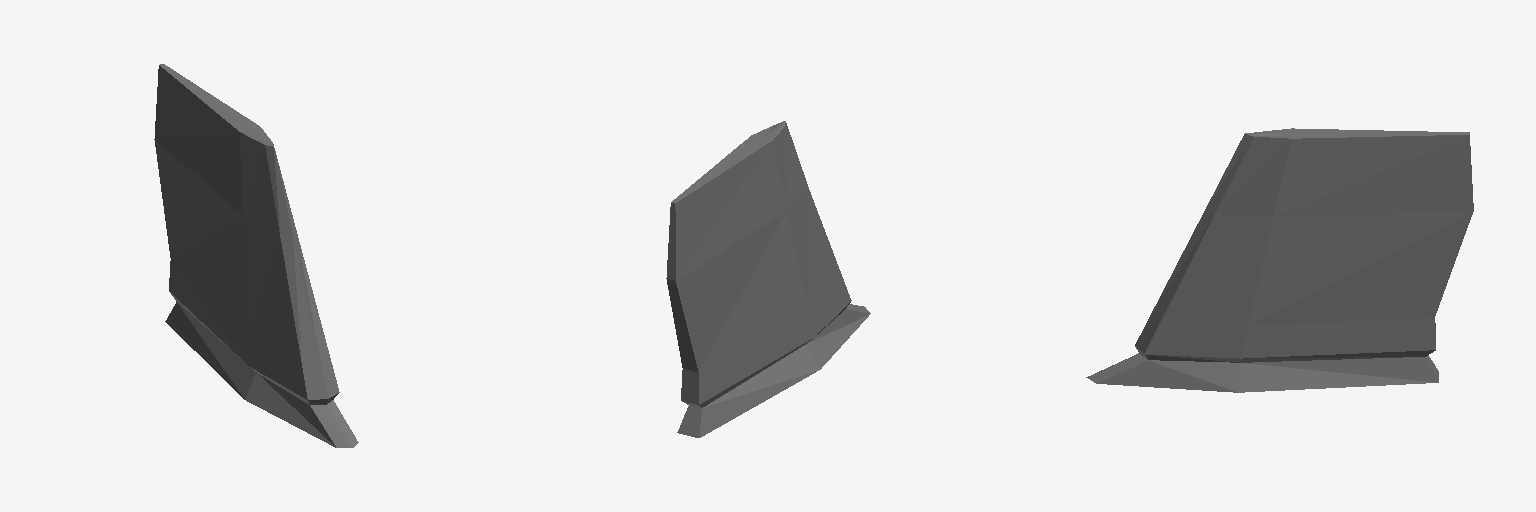
File: BaseFin.obj
3 renders of one model, left to right at view 1: azimuth 30°, elevation 25°; view 2: azimuth 150°, elevation 25°; view 3: azimuth 270°, elevation 25°, orthographic.
Visible parts, largest first — view 1: WingBase1; view 2: WingBase1; view 3: WingBase1.
Boxes of the visible parts, x1,y1,x2,y2 form: WingBase1: [154, 64, 358, 447]; WingBase1: [666, 121, 870, 437]; WingBase1: [1086, 128, 1473, 392].
Bounding box in the file's own units: 0.2571 × 0.9551 × 1.37.